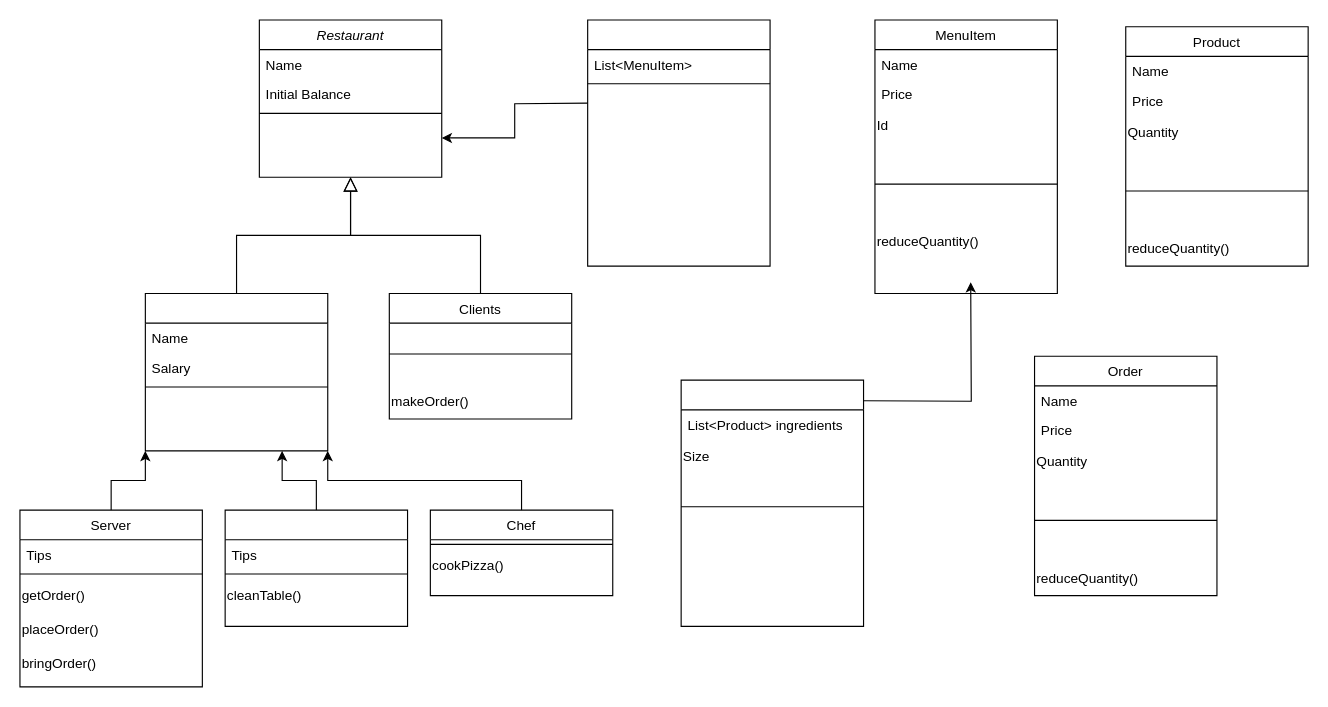
Image size: 1328x707. Some labels were removed from this diagram. The shapes that lost their labels are listed below. From the top down, each one's box as (x1, y1, x2, y2) in pixels, then its label:
(587, 19, 770, 266): Menu
(144, 292, 328, 451): Employee
(680, 379, 864, 626): Pizza
(224, 509, 408, 626): Busser
